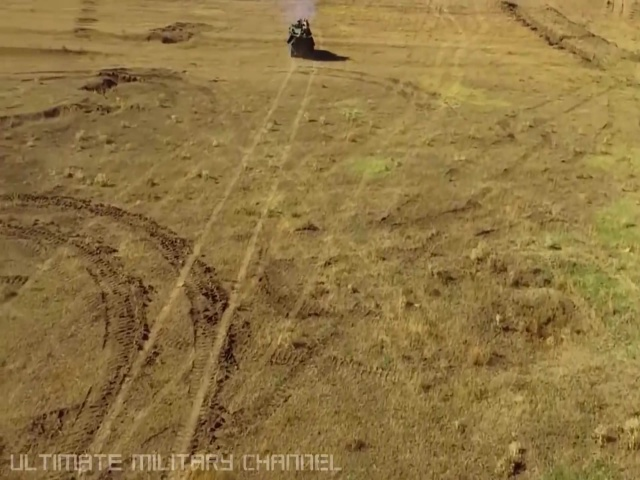vehicle: (285, 16, 316, 61)
